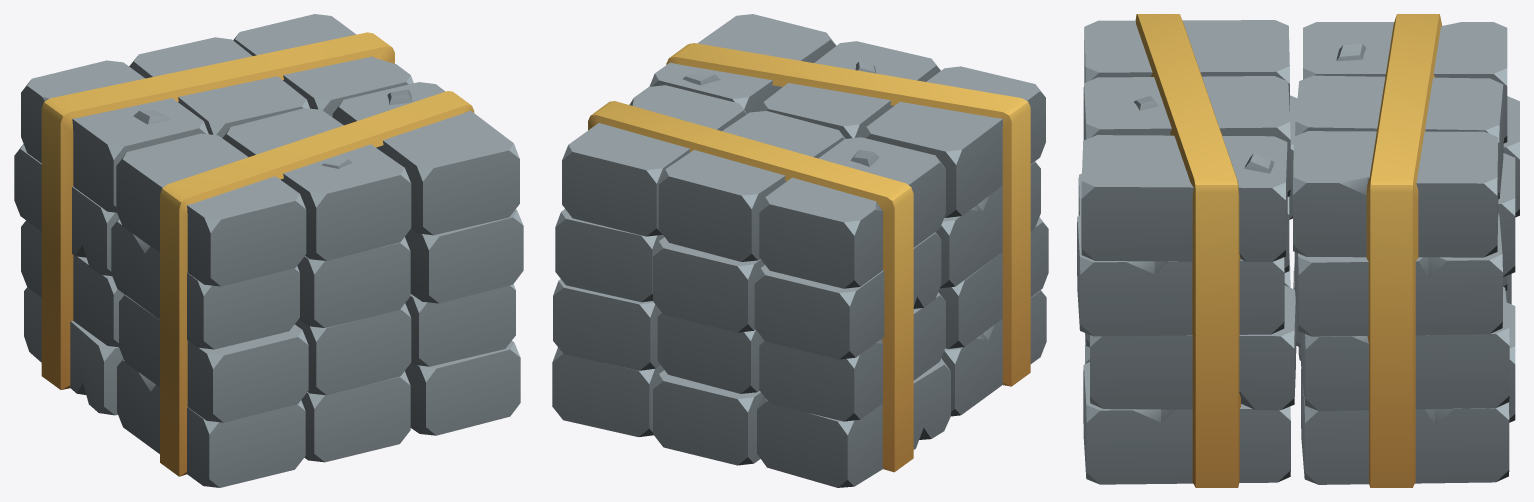
Rendered from Stone_Bricks_Stack_Large.glb.
The picture shows the model from 3 angles, left to right: view 1: azimuth 30°, elevation 25°; view 2: azimuth 150°, elevation 25°; view 3: azimuth 270°, elevation 25°; orthographic projection. The views are drawn at different scales.
Parts seen in each view (by area): view 1: Stone_Bricks_Stack_Large; view 2: Stone_Bricks_Stack_Large; view 3: Stone_Bricks_Stack_Large.
Boxes of the visible parts, x1,y1,x2,y2 form: Stone_Bricks_Stack_Large: (14,14,523,487); Stone_Bricks_Stack_Large: (552,14,1048,487); Stone_Bricks_Stack_Large: (1077,14,1519,487).
Bounding box in the file's own units: 1.51 × 1.23 × 1.63.
1 material, 1 textured.
